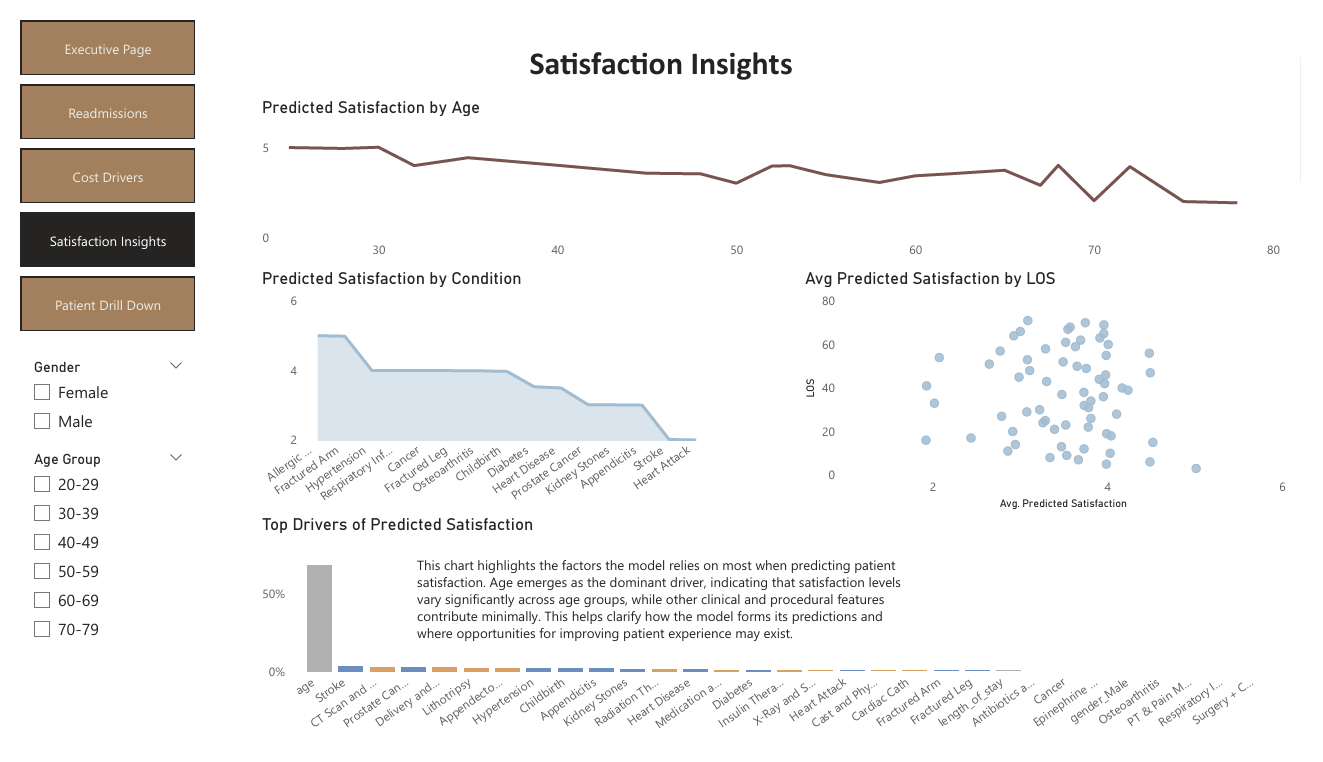

What the dashboard file says about the page in this screenshot:
{"tool":"powerbi","page":{"name":"Satisfaction Insights","canvas":[1280,720],"ordinal":3},"visuals":[{"type":"lineChart","fields":{"Category":["phase1_cleaned.age"],"Y":["Predictions.Avg Predicted Satisfaction"]},"box":[235.9,76.3,1031.2,171.1],"z":0},{"type":"areaChart","fields":{"Category":["phase1_cleaned.condition"],"Y":["Predictions.Avg Predicted Satisfaction"]},"box":[235.9,247.4,454.9,245.6],"z":1000},{"type":"scatterChart","fields":{"Y":["phase1_cleaned.length_of_stay"],"X":["Predictions.Avg Predicted Satisfaction"]},"box":[778.5,247.4,491.2,245.6],"z":2000},{"type":"clusteredColumnChart","title":"Top Drivers of Predicted Satisfaction","fields":{"Y":["Avg(Satisfaction Importance.importance)"],"Category":["Satisfaction Importance.Clean Feature"]},"box":[235.9,493,1033,227],"z":3000},{"type":"textbox","box":[490,18,300,58],"z":4000},{"type":"pageNavigator","box":[0,0,173.8,313],"z":5000},{"type":"slicer","fields":{"Values":["phase1_cleaned.gender"]},"box":[0,332.5,173.8,92.2],"z":6000},{"type":"textbox","box":[391,530.2,497.4,101.1],"z":7000},{"type":"slicer","fields":{"Values":["phase1_cleaned.age_group"]},"box":[0,425,174,227],"z":8000}]}

Visuals, with their boxes on the page's 1280x720 design canvas (x1, y1, x2, y2). These are canvas units, not pixel positions in the 1323x762 screenshot, which may show the page scaled, cropped or inside an application window:
lineChart - phase1_cleaned.age x Predictions.Avg Predicted Satisfaction: [left=236, top=76, right=1267, bottom=247]
areaChart - phase1_cleaned.condition x Predictions.Avg Predicted Satisfaction: [left=236, top=247, right=691, bottom=493]
scatterChart - phase1_cleaned.length_of_stay x Predictions.Avg Predicted Satisfaction: [left=778, top=247, right=1270, bottom=493]
"Top Drivers of Predicted Satisfaction" clusteredColumnChart: [left=236, top=493, right=1269, bottom=720]
textbox: [left=490, top=18, right=790, bottom=76]
pageNavigator: [left=0, top=0, right=174, bottom=313]
slicer - phase1_cleaned.gender: [left=0, top=332, right=174, bottom=425]
textbox: [left=391, top=530, right=888, bottom=631]
slicer - phase1_cleaned.age_group: [left=0, top=425, right=174, bottom=652]
